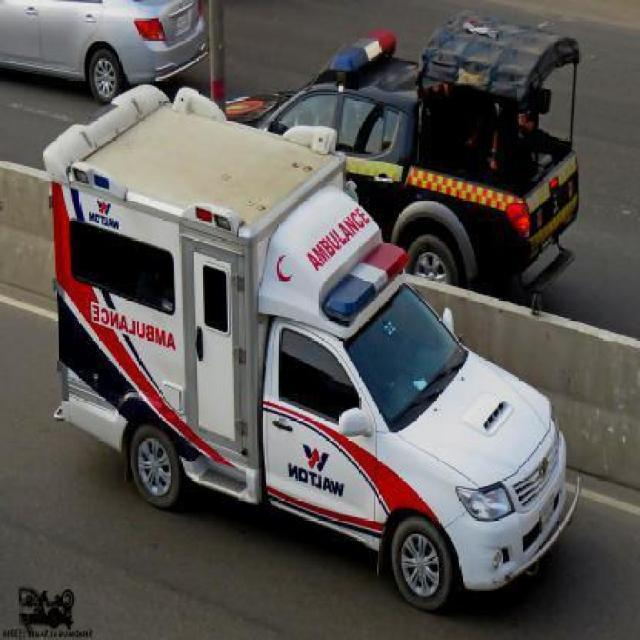emergency: (42, 81, 582, 613)
